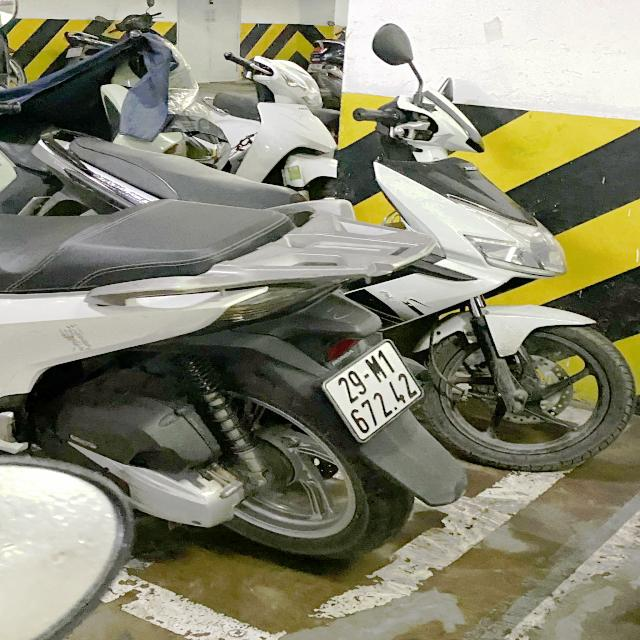license_plate: (325, 339, 427, 443)
